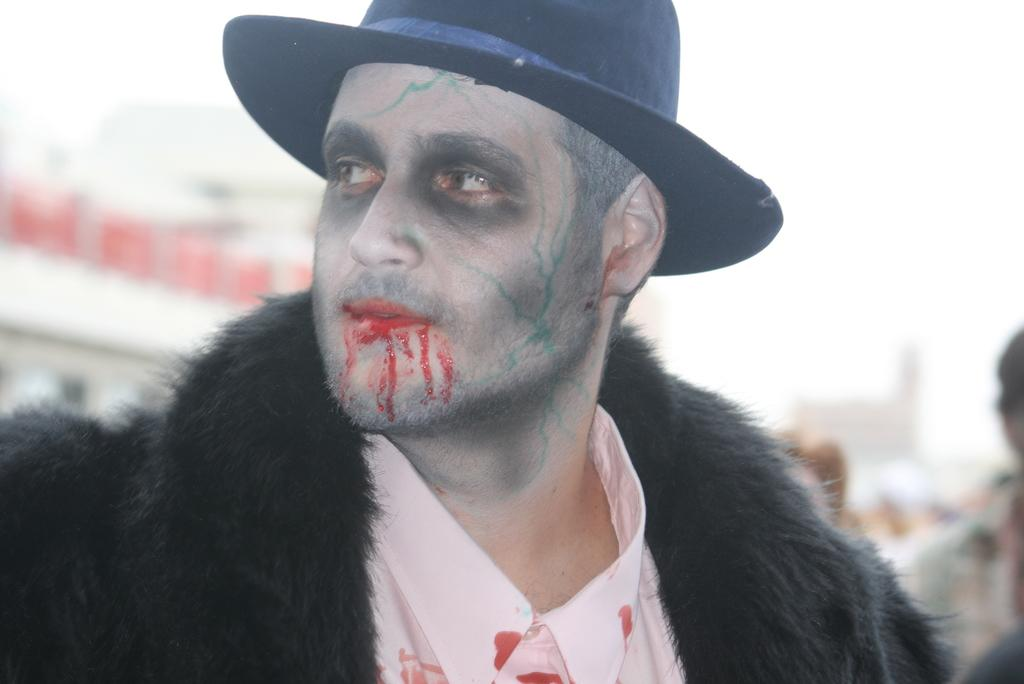Hat: (224, 0, 790, 279)
